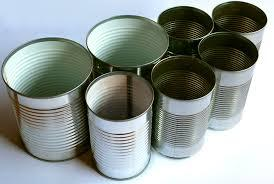Tin: (2, 3, 274, 184)
